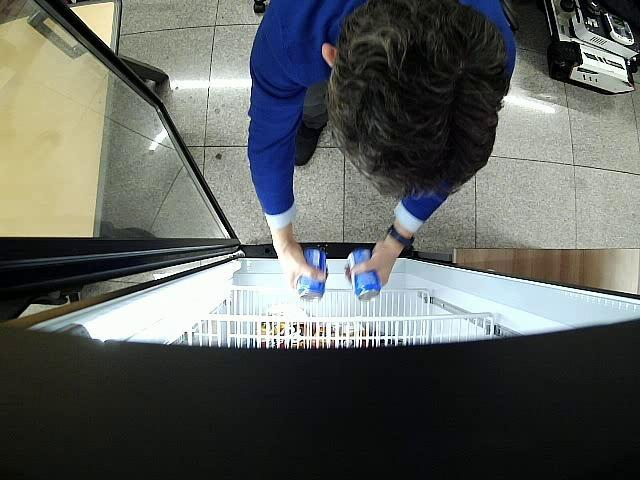13_pocariSweat: (347, 250, 380, 302), (296, 248, 326, 301)
